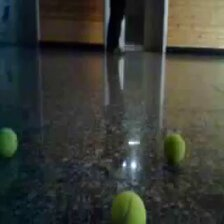tennis: (108, 191, 148, 224), (163, 135, 187, 164), (1, 126, 18, 158)
